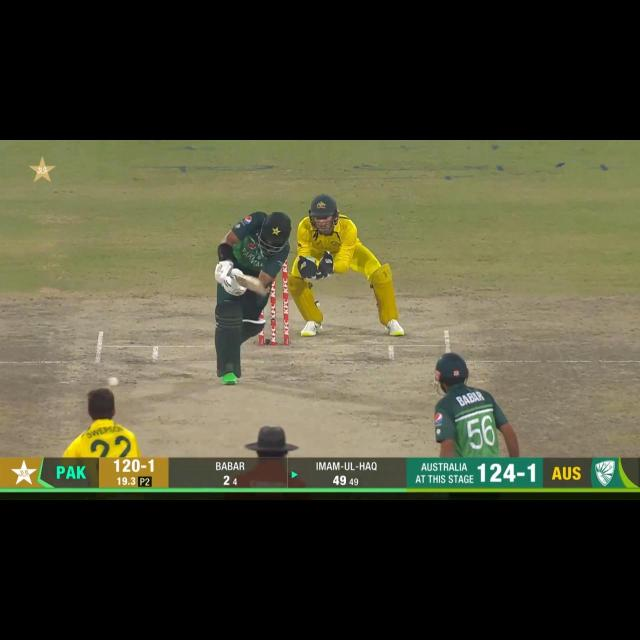bat: (230, 272, 269, 300)
toe: (253, 274, 265, 299)
